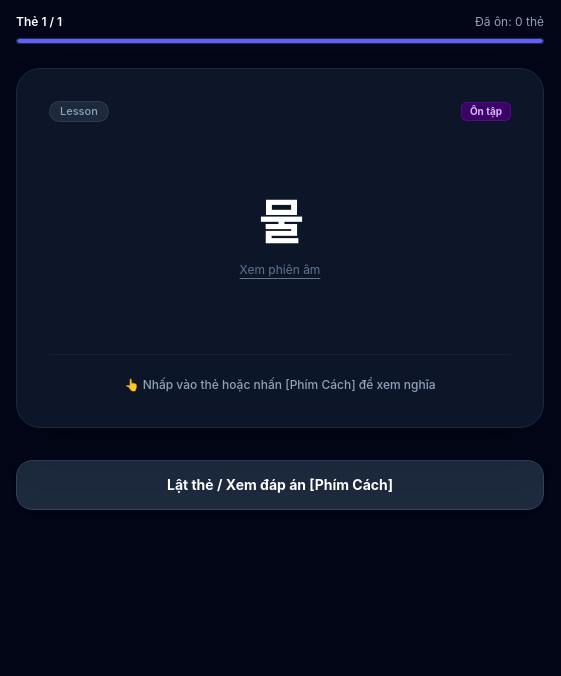
Test: F4 SRS retries › blocks rapid clicks and changing the rating of an uncertain operation
Press Space
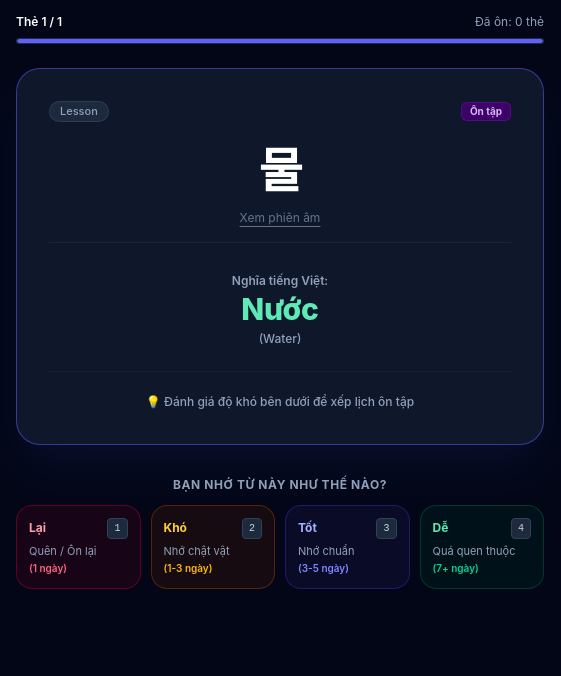
Click the button "Tốt 3 Nhớ chuẩn (3-5 ngày)" at {"x": 347, "y": 547}, box [285, 505, 410, 589]
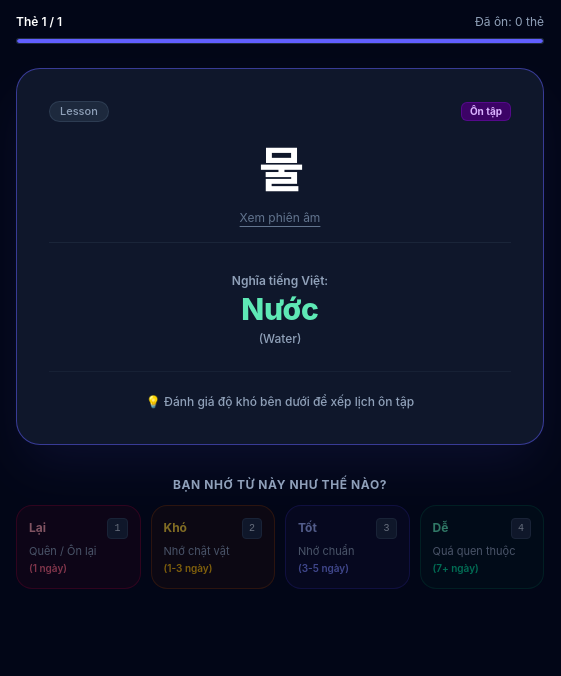
Click the button "Tốt 3 Nhớ chuẩn (3-5 ngày)" at {"x": 347, "y": 547}, box [285, 505, 410, 589]
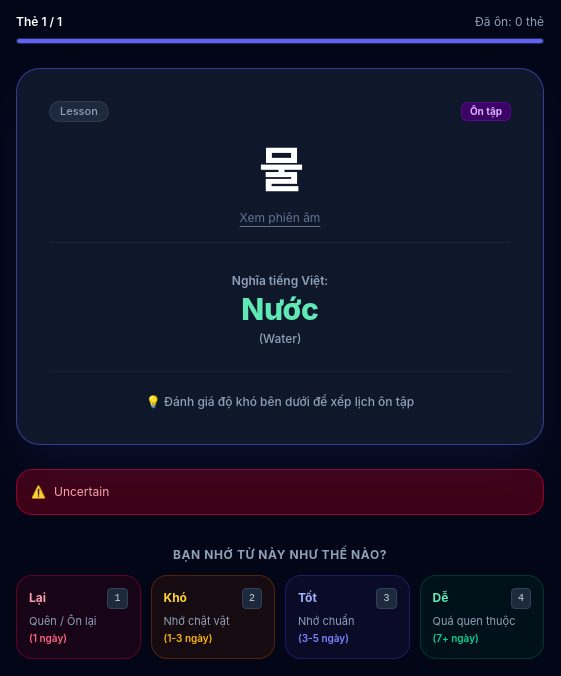
expect the text "Uncertain" is shown: met, box [54, 484, 109, 500]
Click the button "Dễ 4 Quá quen thuộc (7+ ngày)" at {"x": 482, "y": 617}, box [420, 575, 544, 659]
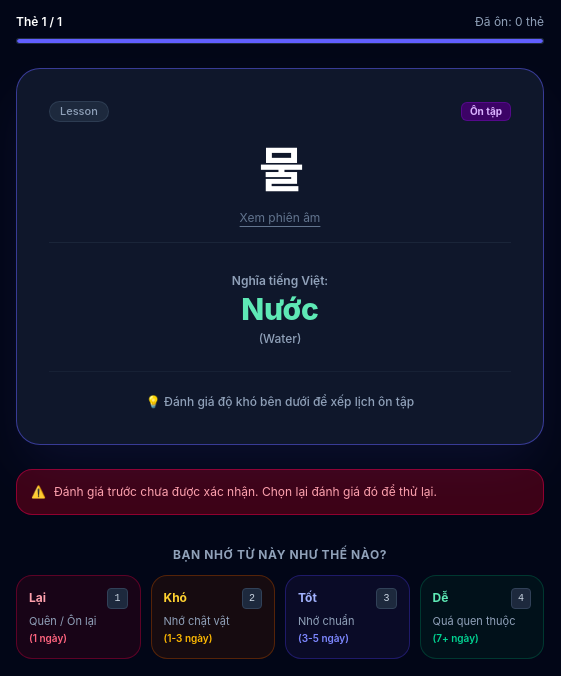
expect the text "Đánh giá trước chưa được xác nhận" is shown: met, box [54, 484, 437, 499]
